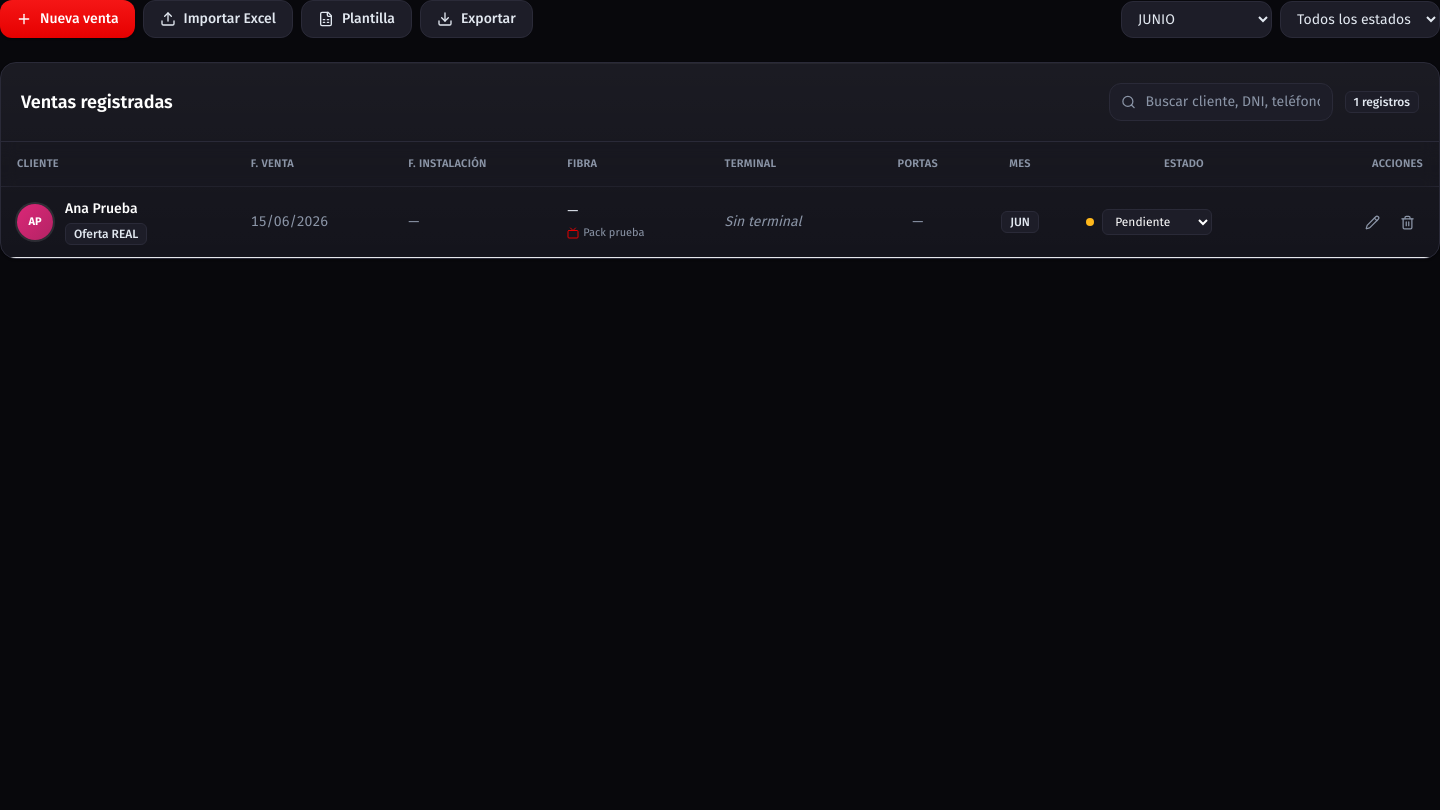
it: muestra TV y permite editar líneas después de validar la copia de ventas
Click the button named "Editar". click: (1372,222)
box: [1357, 206, 1388, 238]
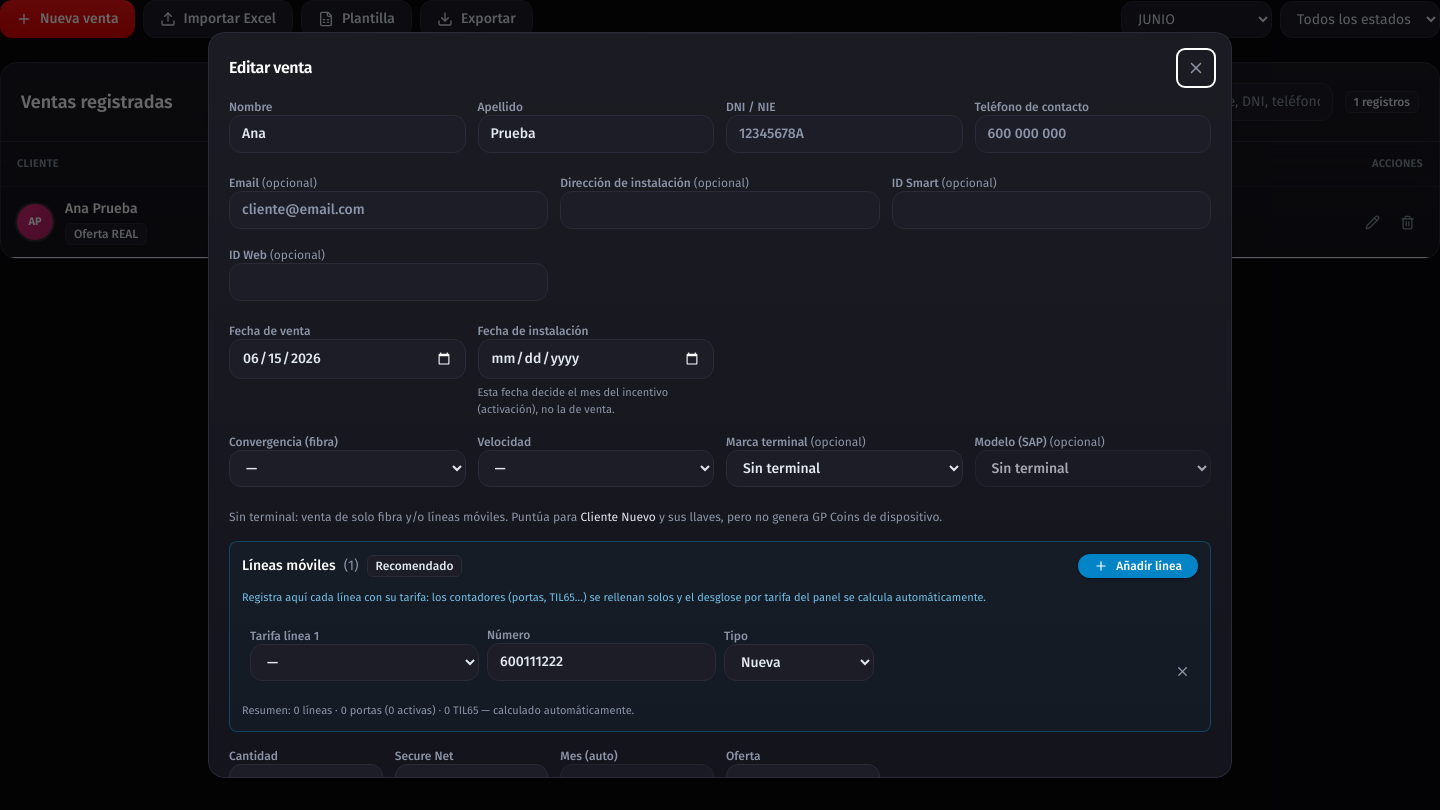
Expected: the dialog is shown
